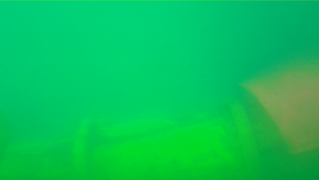leak: (239, 64, 319, 156)
pipe: (1, 97, 319, 180)
